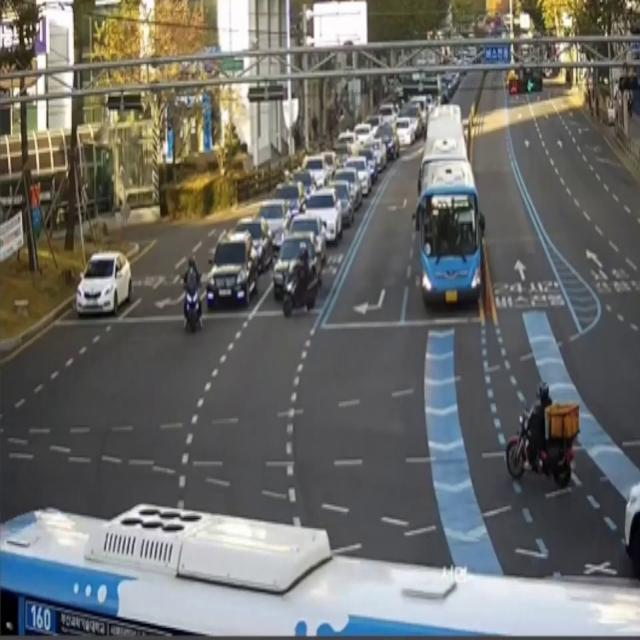bus: (504, 378, 580, 488), (180, 250, 206, 334)
car: (416, 162, 484, 313)
motorcycle: (204, 229, 260, 311), (76, 249, 135, 317), (276, 232, 317, 307)
